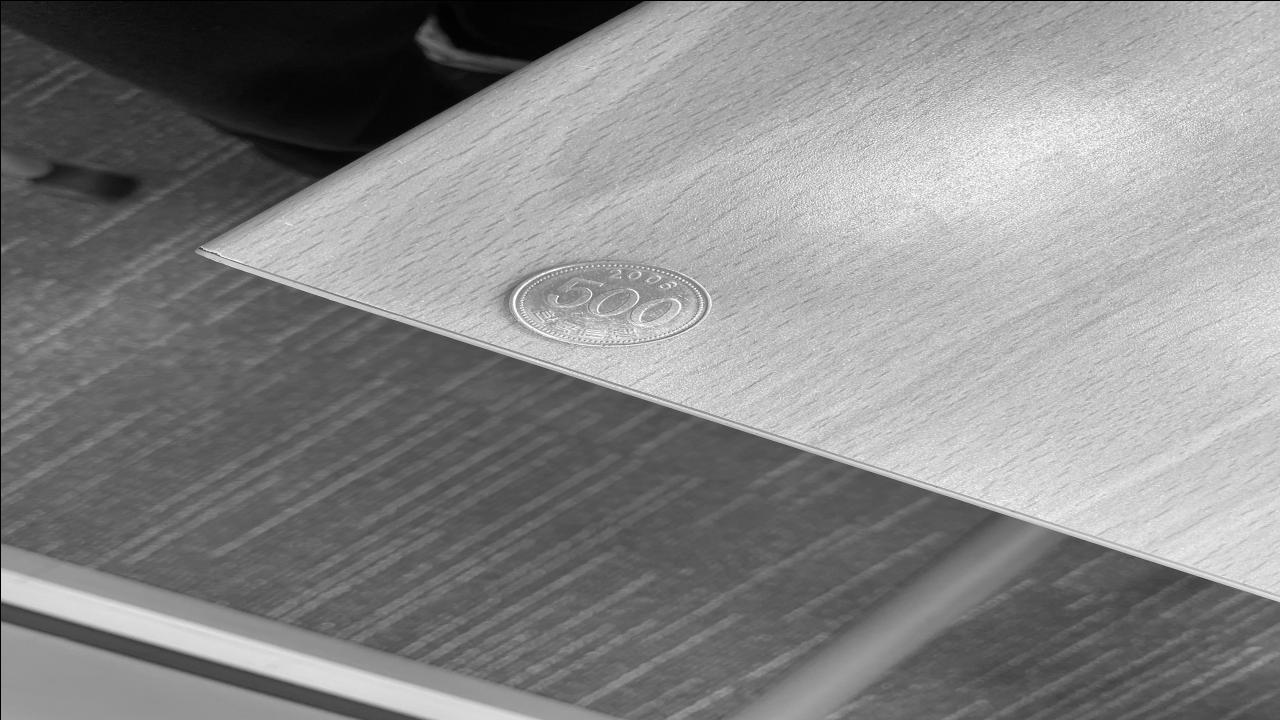coin: (499, 258, 711, 346)
